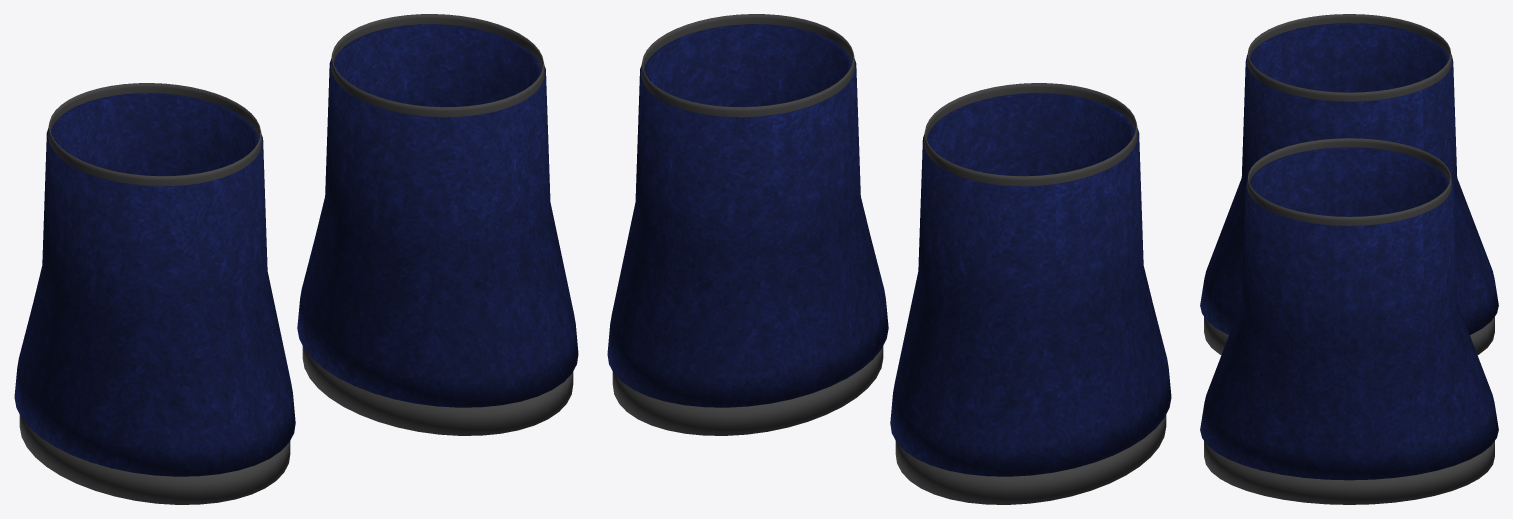
File: rainboots2.fbx
3 views of the same model, side by side, from view 1: azimuth 30°, elevation 25°; view 2: azimuth 150°, elevation 25°; view 3: azimuth 270°, elevation 25° (orthographic). The views are drawn at different scales.
Visible parts, largest first — view 1: rainboots2; view 2: rainboots2; view 3: rainboots2.
Boxes of the visible parts, x1,y1,x2,y2 form: rainboots2: [14, 14, 578, 504]; rainboots2: [607, 14, 1171, 504]; rainboots2: [1200, 14, 1498, 504].
Bounding box in the file's own units: 0.638 × 0.3714 × 0.3598.
Materials: 2 (1 with a texture image).
